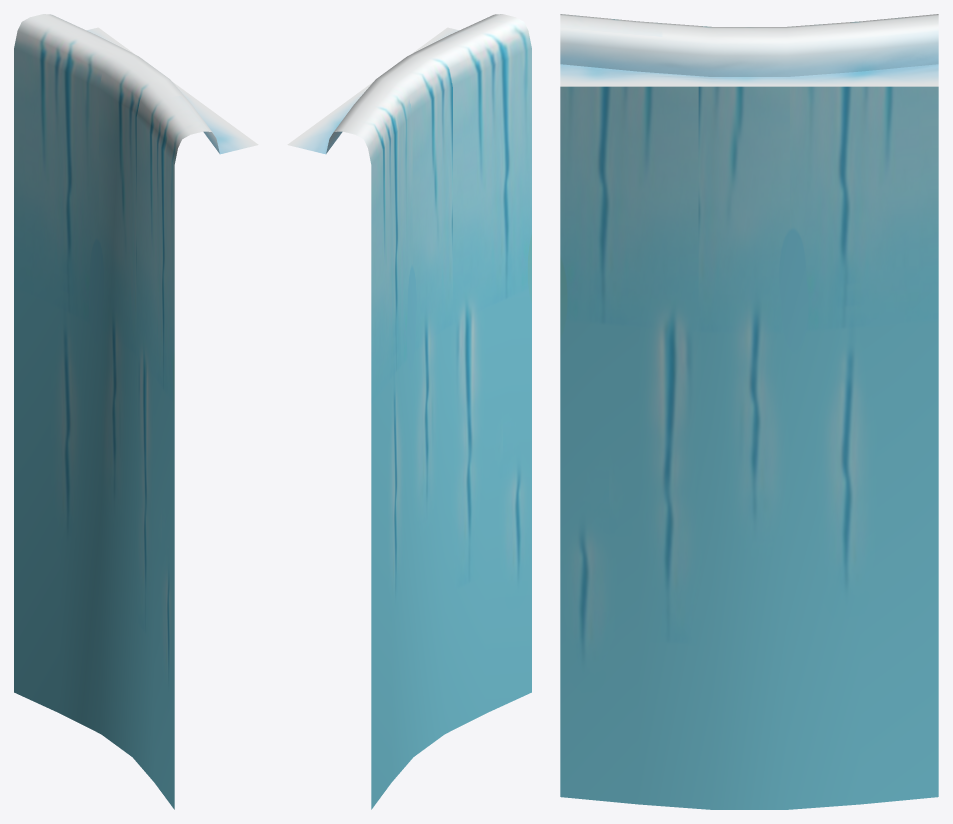
The model's file is High_Dike_3.FBX.
3 renders of one model, left to right at view 1: azimuth 30°, elevation 25°; view 2: azimuth 150°, elevation 25°; view 3: azimuth 270°, elevation 25°, orthographic. The views are drawn at different scales.
Parts seen in each view (by area): view 1: Object295; view 2: Object295; view 3: Object295.
Boxes of the visible parts, x1,y1,x2,y2 form: Object295: [14, 14, 258, 809]; Object295: [287, 14, 531, 809]; Object295: [560, 14, 938, 809].
Bounding box in the file's own units: 121 × 923 × 400.
